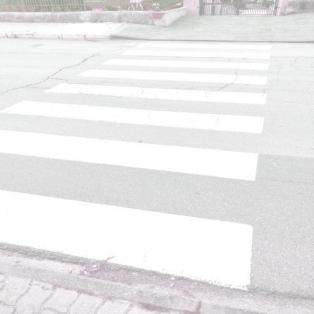Paso de Cebra: (0, 127, 266, 293), (33, 68, 274, 109), (119, 36, 274, 61)
